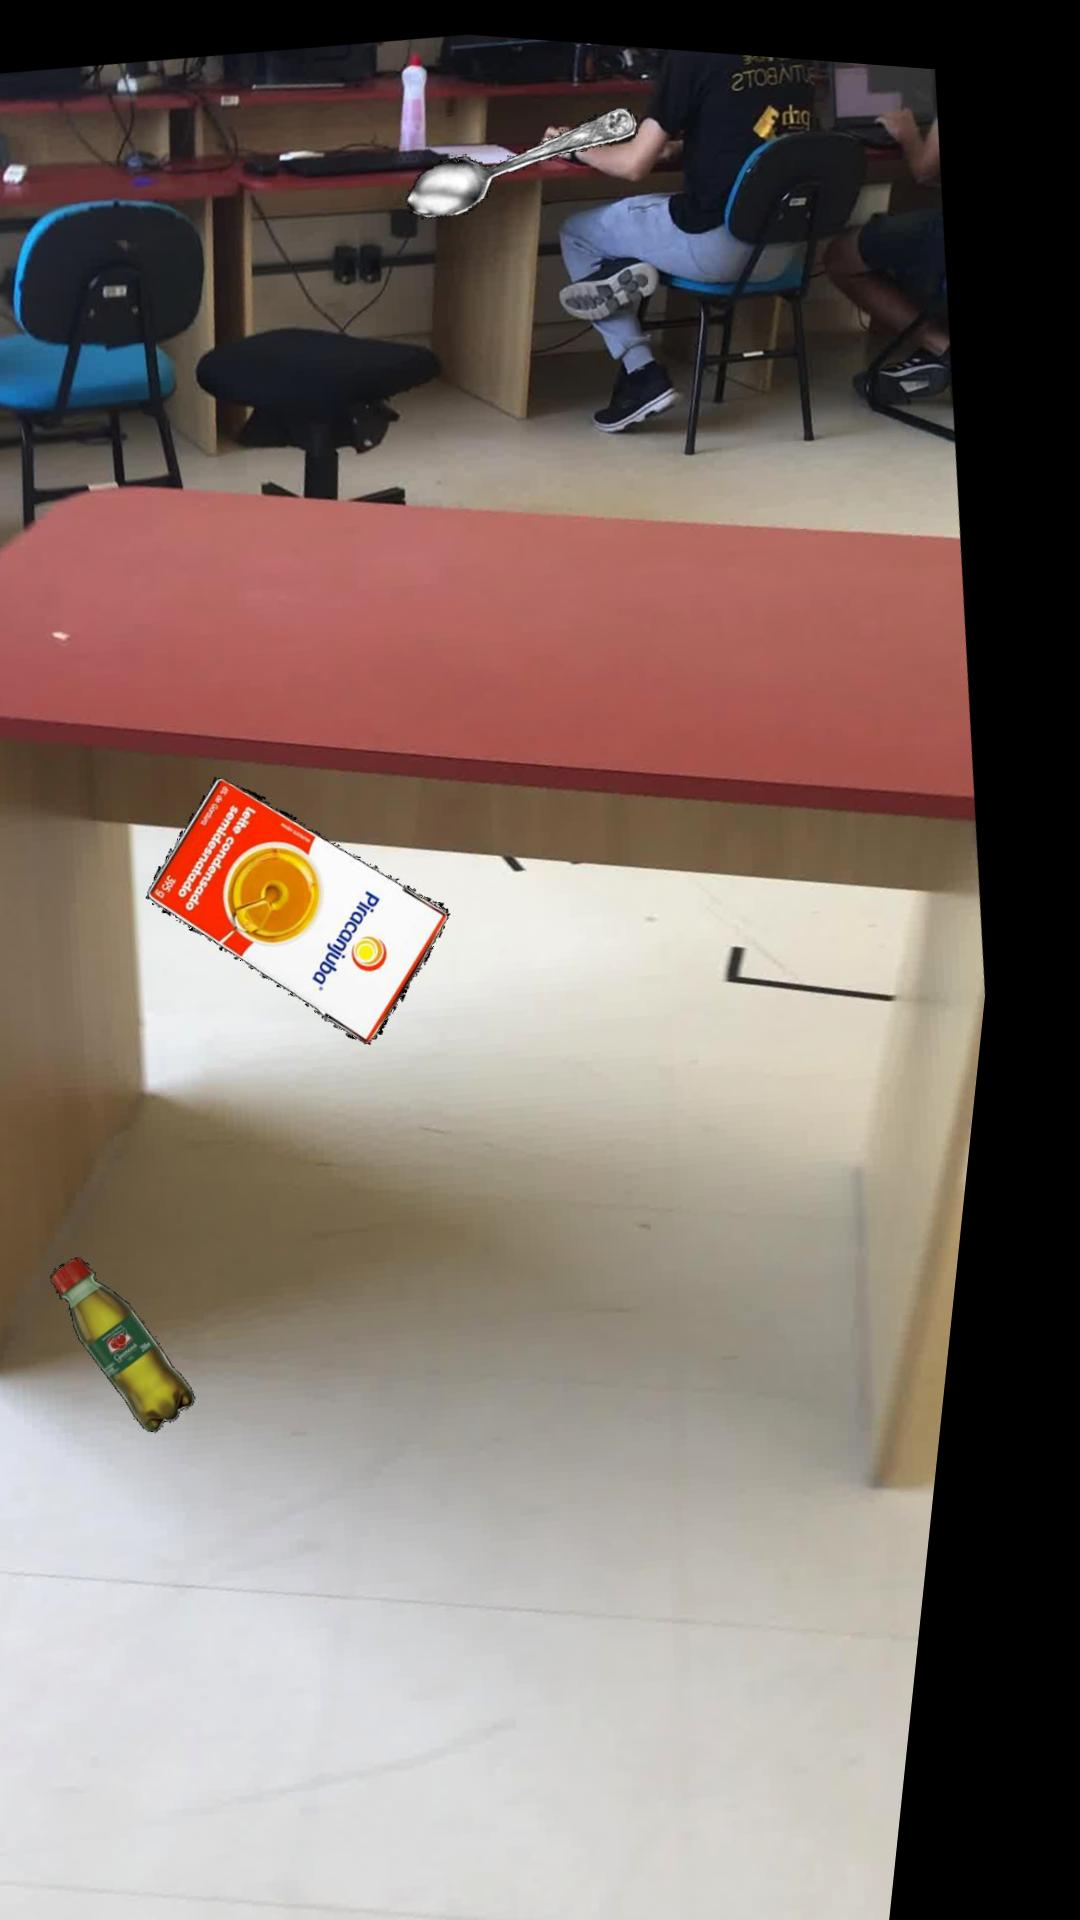guarana: (79, 1251, 227, 1425)
spoon: (410, 95, 640, 210)
